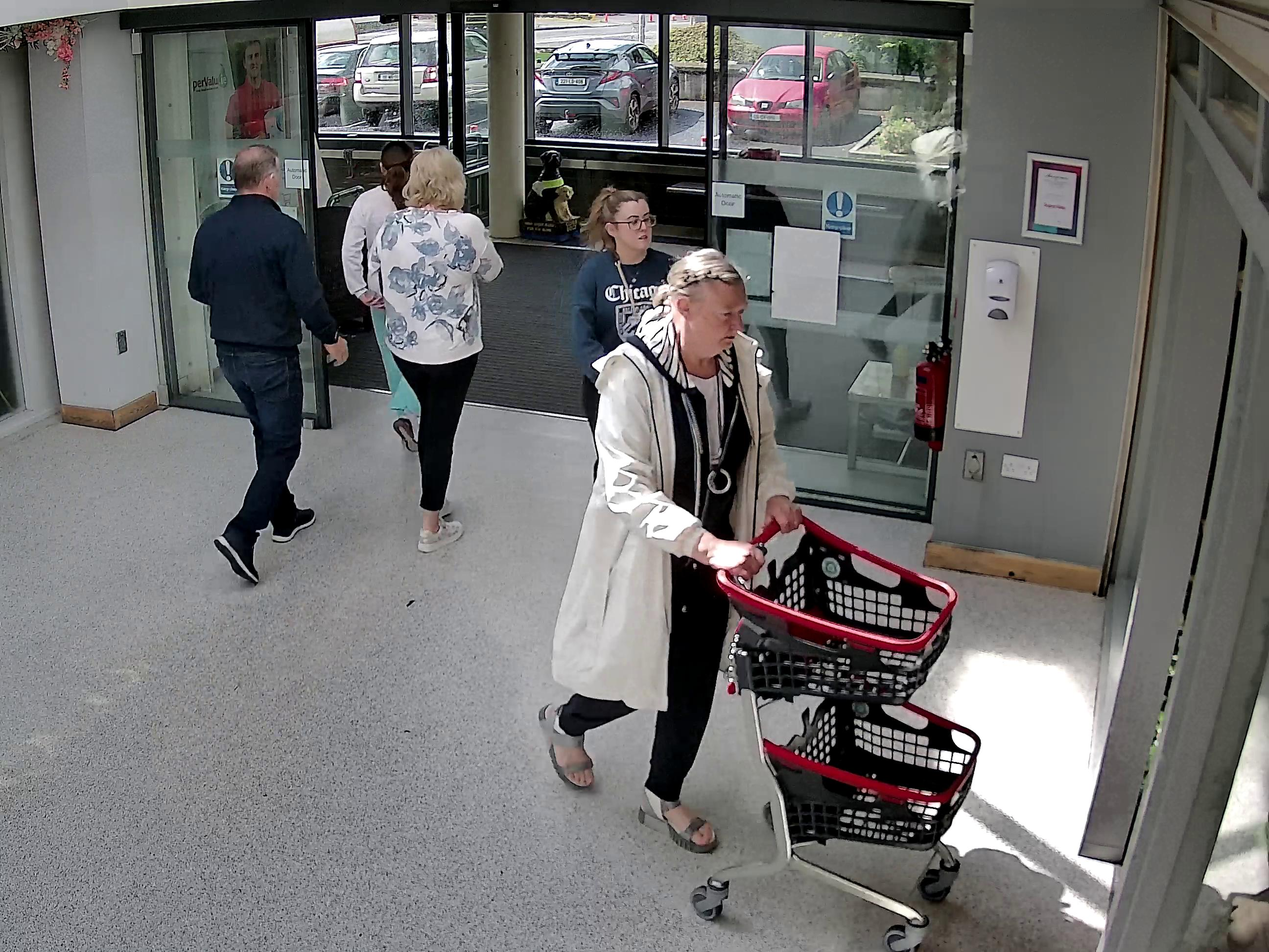empty-trolly: (689, 503, 982, 952)
person: (539, 247, 800, 853)
person-with-empty-basket-trolly: (542, 246, 981, 952)
